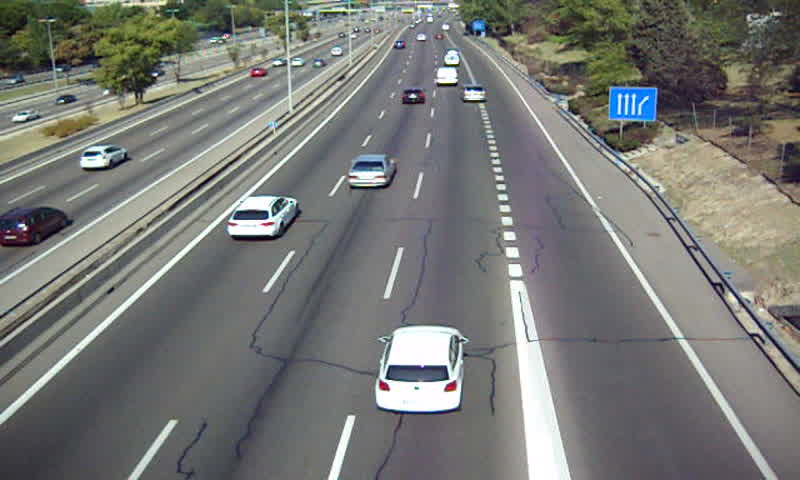car: (375, 325, 464, 413), (226, 195, 298, 238), (347, 155, 396, 191), (461, 83, 488, 104), (400, 88, 426, 106)
van: (435, 66, 458, 87), (446, 53, 461, 66)
